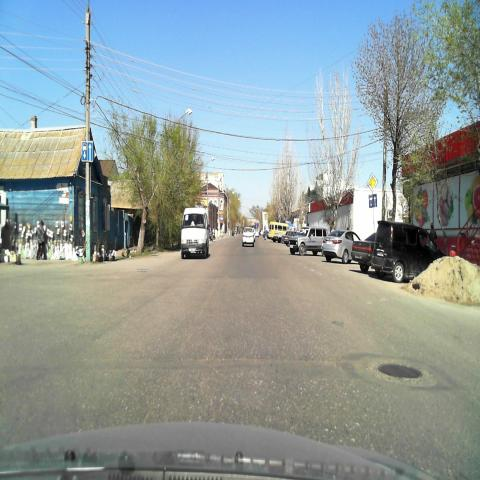5_11: (82, 142, 93, 162), (368, 194, 377, 208)
